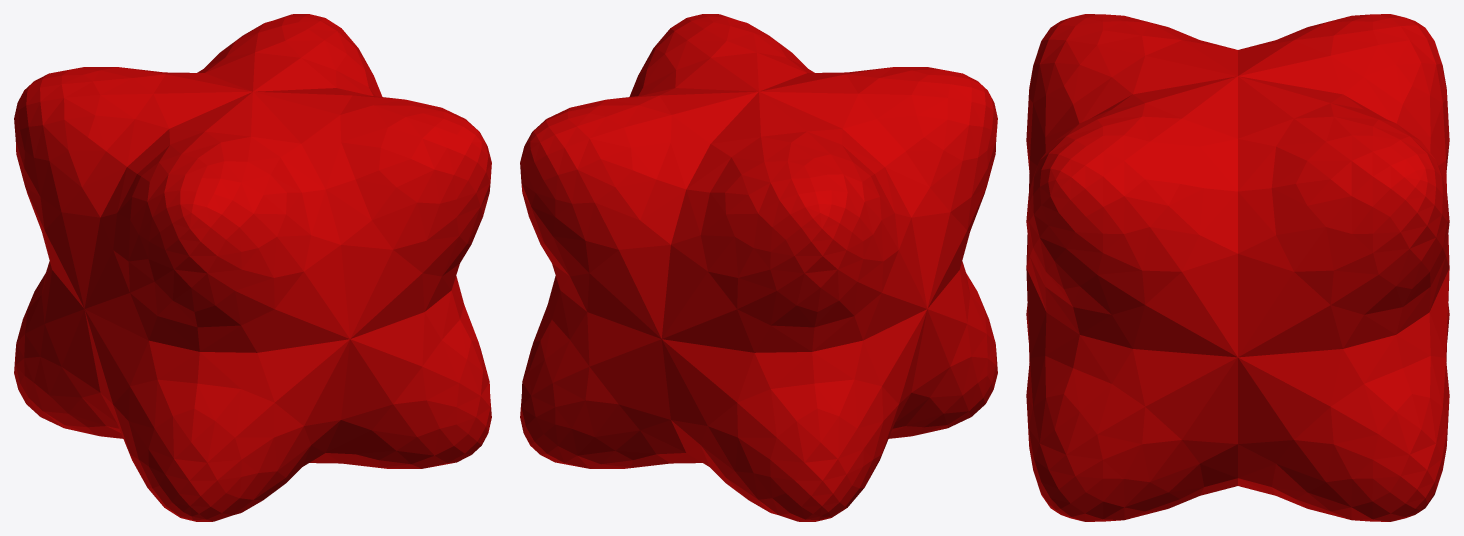
Rendered from rdmlinev2.obj.
The picture shows the model from 3 angles, left to right: view 1: azimuth 30°, elevation 25°; view 2: azimuth 150°, elevation 25°; view 3: azimuth 270°, elevation 25°; orthographic projection. The views are drawn at different scales.
Parts seen in each view (by area): view 1: Cube; view 2: Cube; view 3: Cube.
Part boxes in pixels (box(x1,y1,x2,y2)): Cube: box(14, 14, 491, 521); Cube: box(520, 14, 997, 521); Cube: box(1026, 14, 1449, 521).
Bounding box in the file's own units: 3.77 × 3.77 × 3.77.
